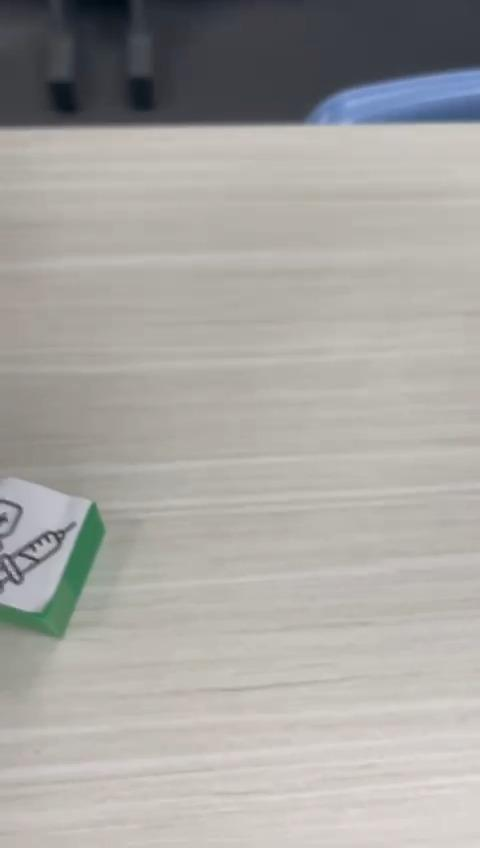antiseptic cream: (0, 474, 106, 639)
